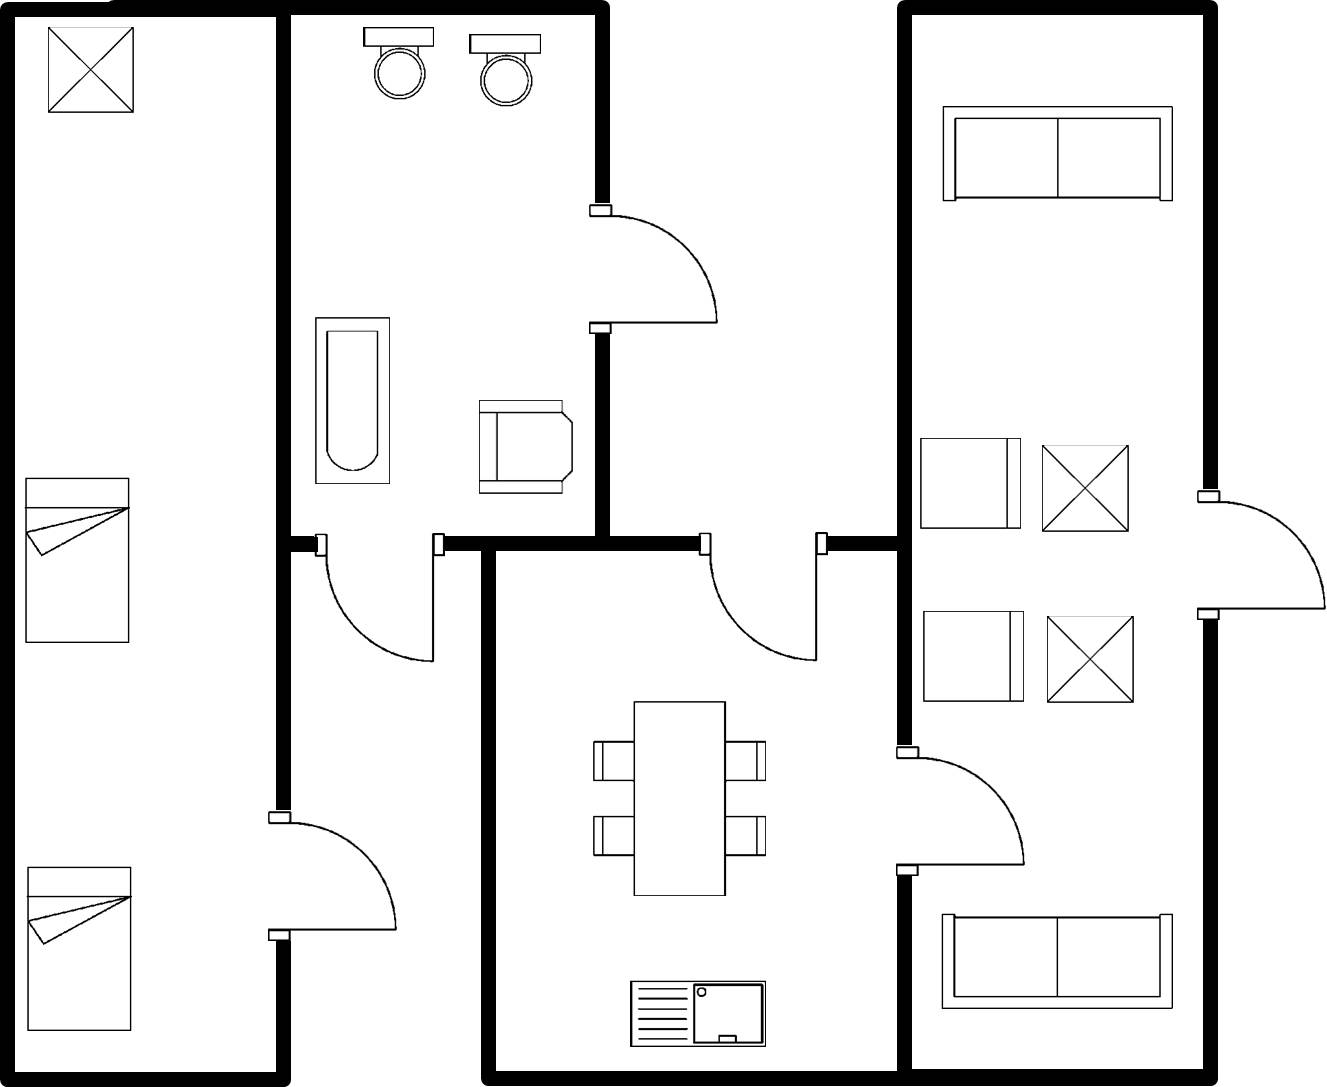armchair: (471, 394, 578, 505)
bed: (23, 860, 139, 1042), (21, 471, 135, 655)
coffee_table: (472, 392, 581, 508), (1033, 433, 1135, 541), (38, 20, 143, 122), (1041, 608, 1143, 711)
dining_table: (584, 693, 776, 907)
large_sink: (461, 26, 556, 112), (354, 18, 442, 109)
large_sofa: (932, 901, 1180, 1020), (932, 96, 1181, 212)
sink: (617, 972, 778, 1057)
small_sofa: (915, 603, 1033, 713), (916, 429, 1030, 534)
tub: (306, 311, 397, 493)
